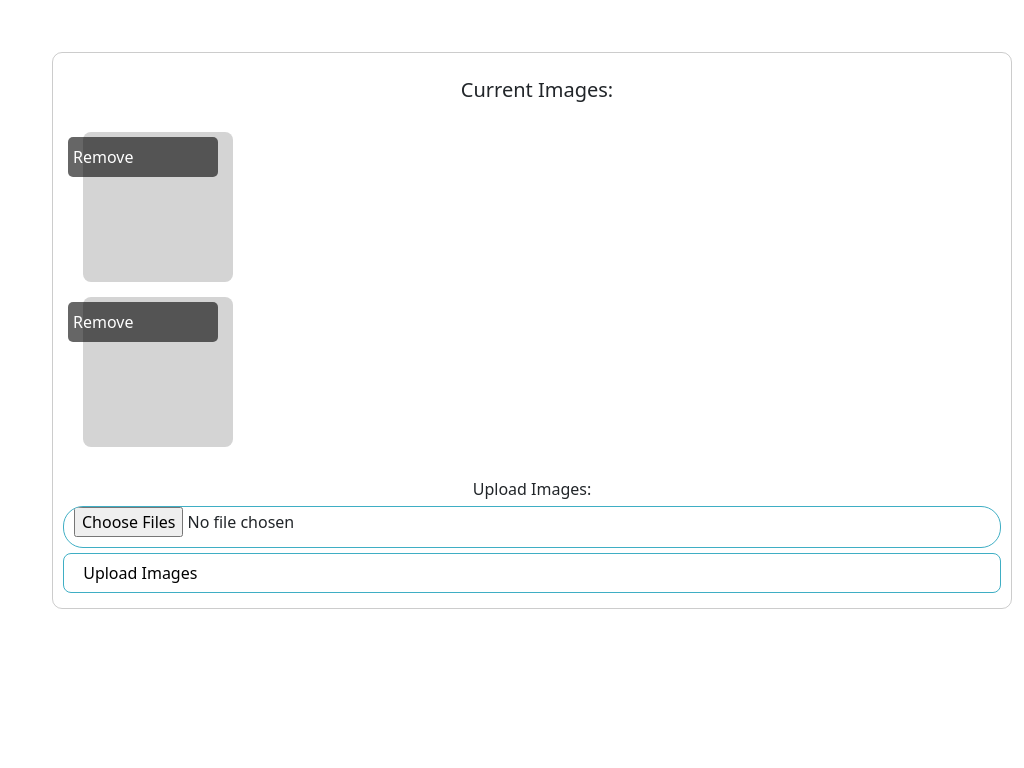
Test: UpdateListingImageForm › displays an error message when no images are selected
The width and height of the screenshot is (1024, 768).
Click the button "Upload Images". click: (140, 573)
box: [63, 553, 1001, 593]
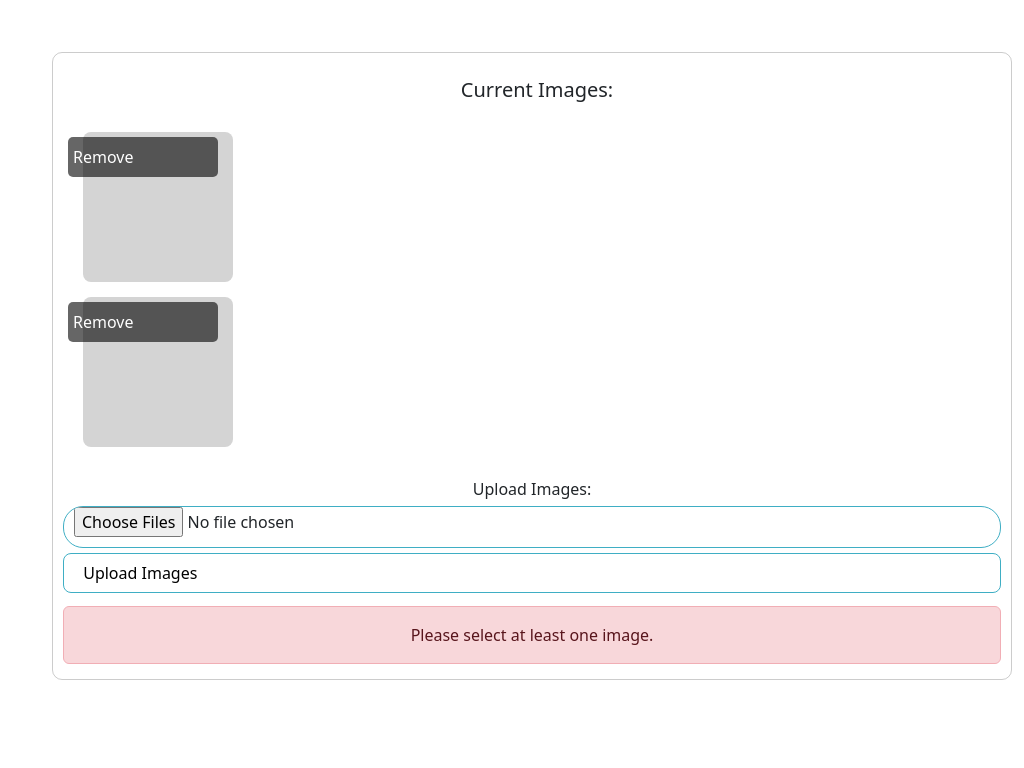
Expected: the text "Please select at least one image." is shown, [63, 606, 1001, 664]
